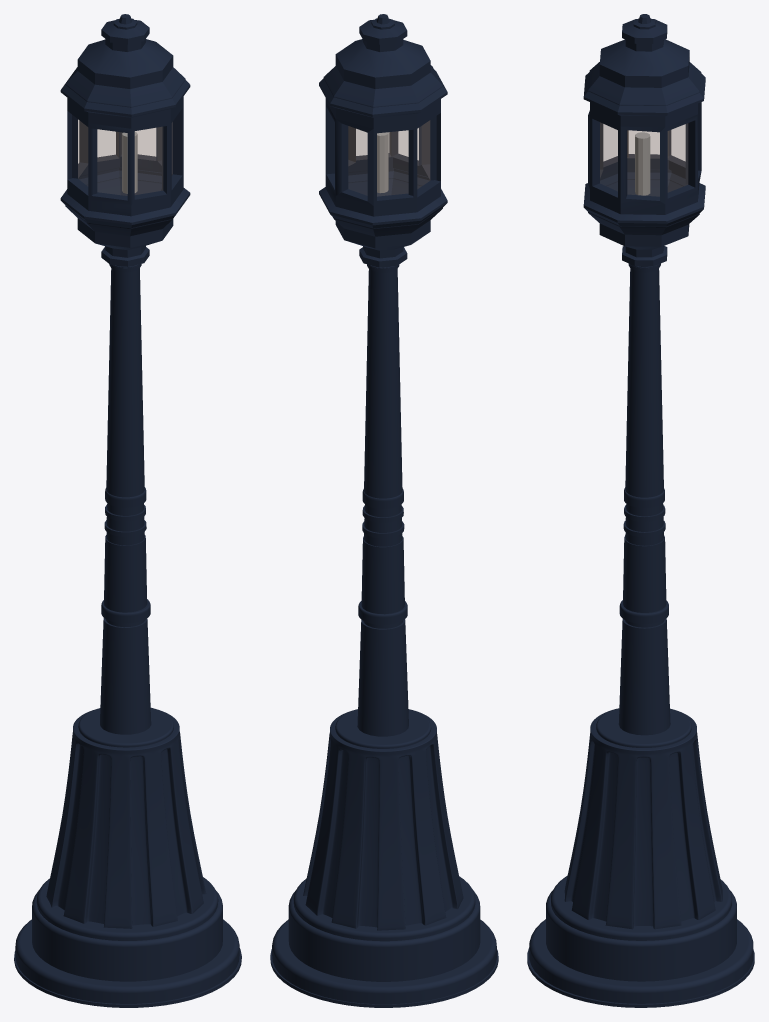
Rendered from lamppost.fbx.
The picture shows the model from 3 angles, left to right: view 1: azimuth 30°, elevation 25°; view 2: azimuth 150°, elevation 25°; view 3: azimuth 270°, elevation 25°; orthographic projection.
Visible parts, largest first — view 1: post:polySurface1, lantern_body, lantern_candle; view 2: post:polySurface1, lantern_body, lantern_candle; view 3: post:polySurface1, lantern_body, lantern_candle.
Part boxes in pixels (x1,y1,x2,y2): post:polySurface1: (14, 264, 241, 1007); lantern_body: (60, 14, 190, 266); lantern_candle: (122, 131, 137, 193); post:polySurface1: (270, 264, 498, 1007); lantern_body: (319, 14, 447, 267); lantern_candle: (377, 132, 388, 193); post:polySurface1: (527, 263, 754, 1007); lantern_body: (583, 14, 705, 266); lantern_candle: (635, 132, 650, 195).
Size of the model in its own units: 13.18 by 60.21 by 13.16.
